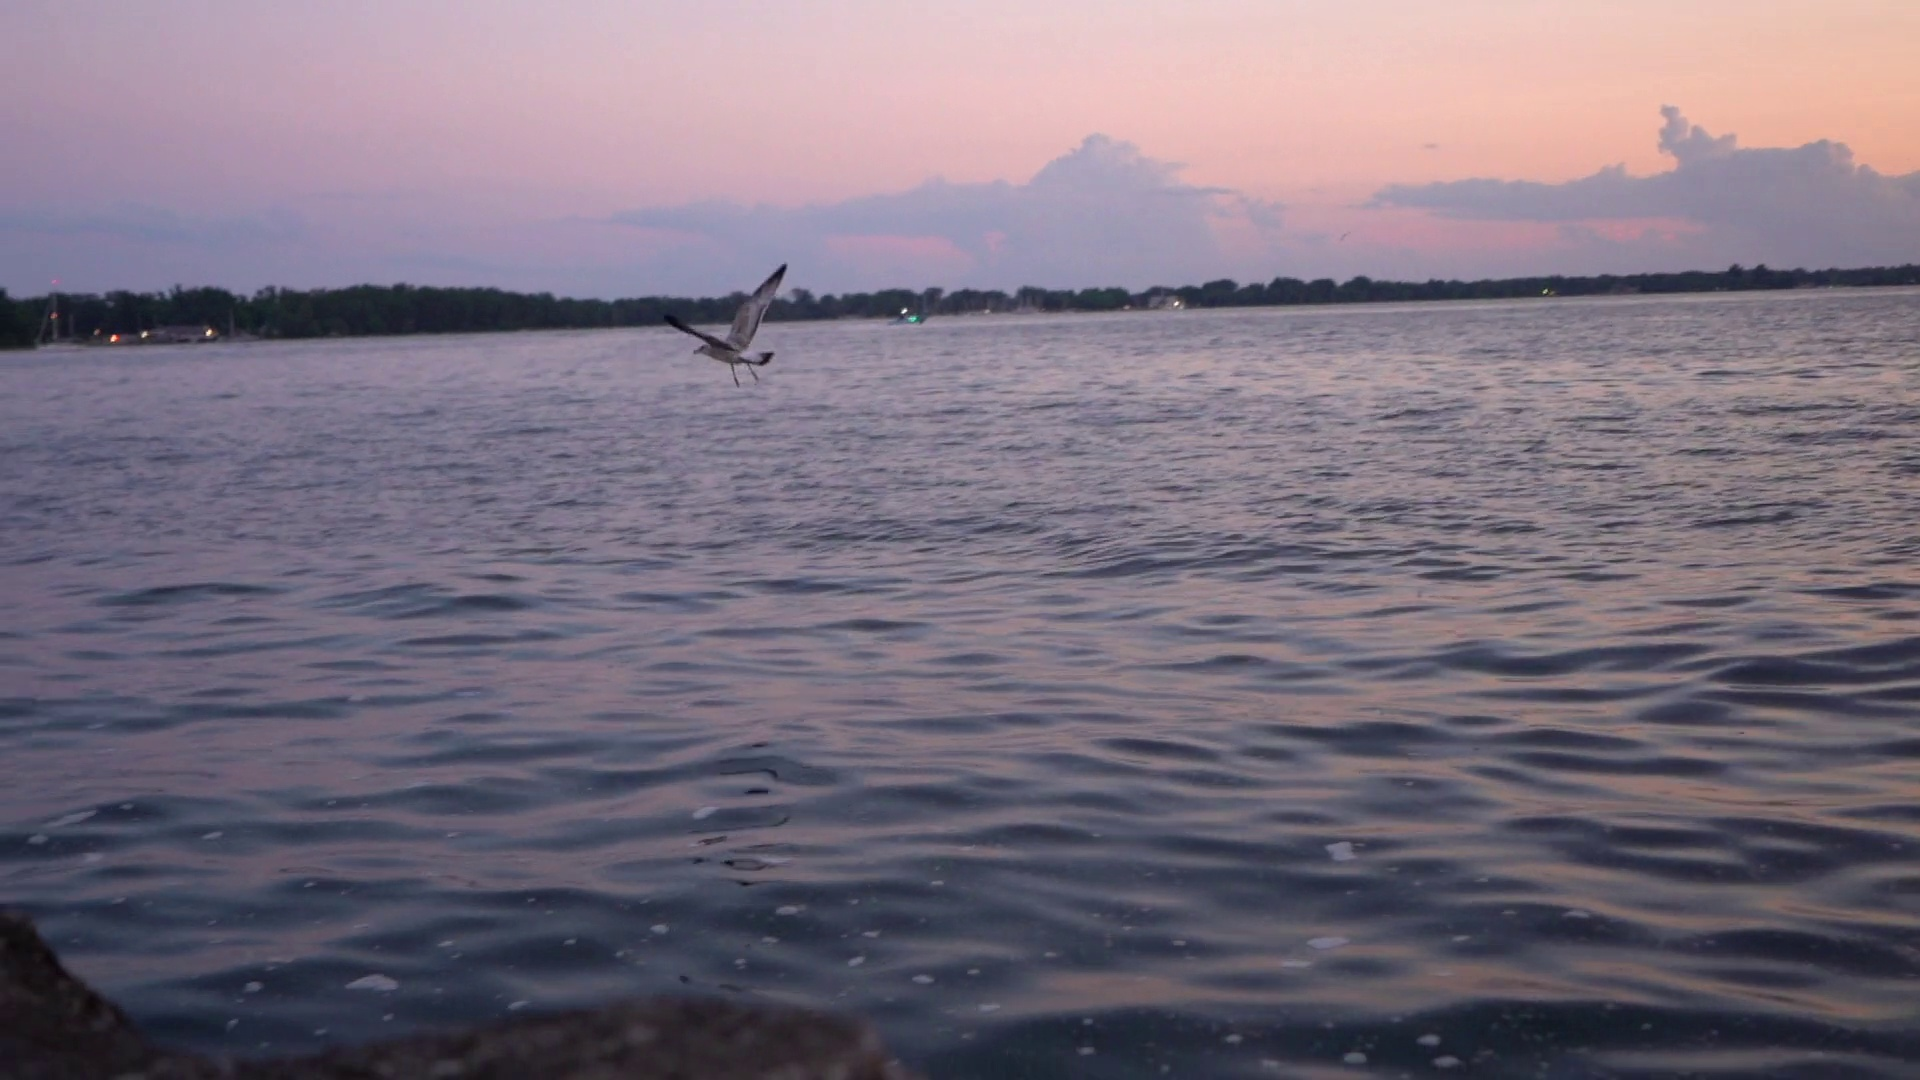bird: (663, 258, 786, 386)
